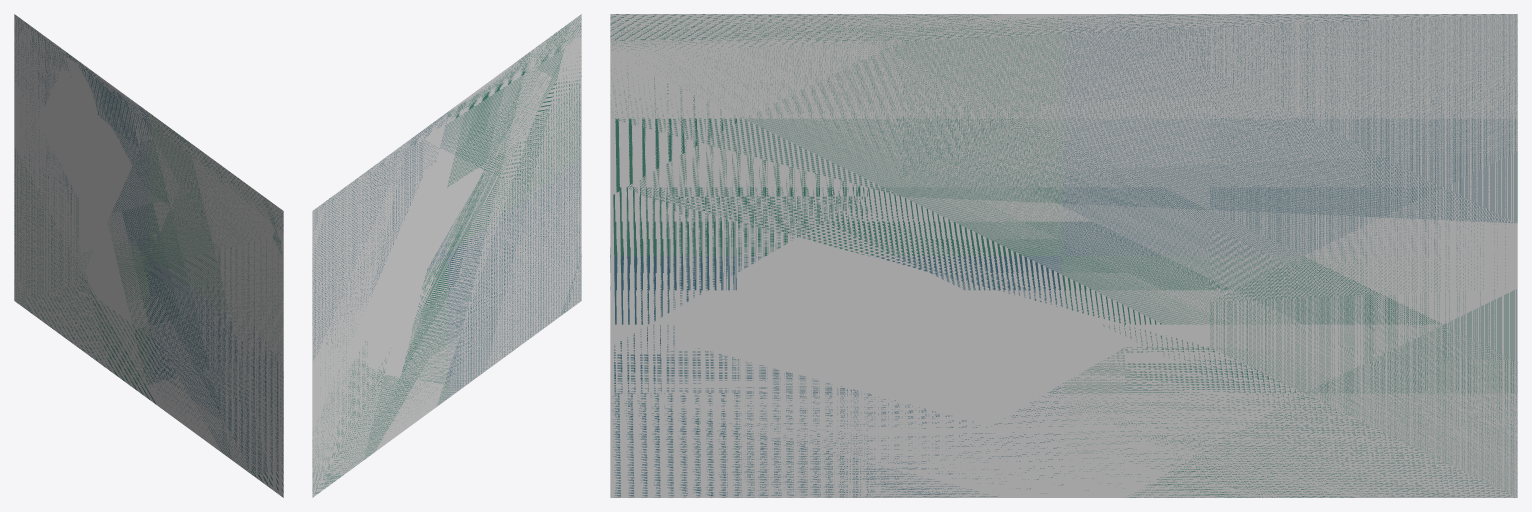
The picture shows the model from 3 angles, left to right: view 1: azimuth 30°, elevation 25°; view 2: azimuth 150°, elevation 25°; view 3: azimuth 270°, elevation 25°; orthographic projection. The views are drawn at different scales.
Visible parts, largest first — view 1: SketchUp; view 2: SketchUp; view 3: SketchUp.
Part boxes in pixels (<box>): SketchUp: <box>14,14,283,497</box>; SketchUp: <box>312,14,581,497</box>; SketchUp: <box>610,14,1517,497</box>.
Size of the model in its own units: 7.69e-07 by 2.54 by 4.32.
2 materials, 1 textured.
